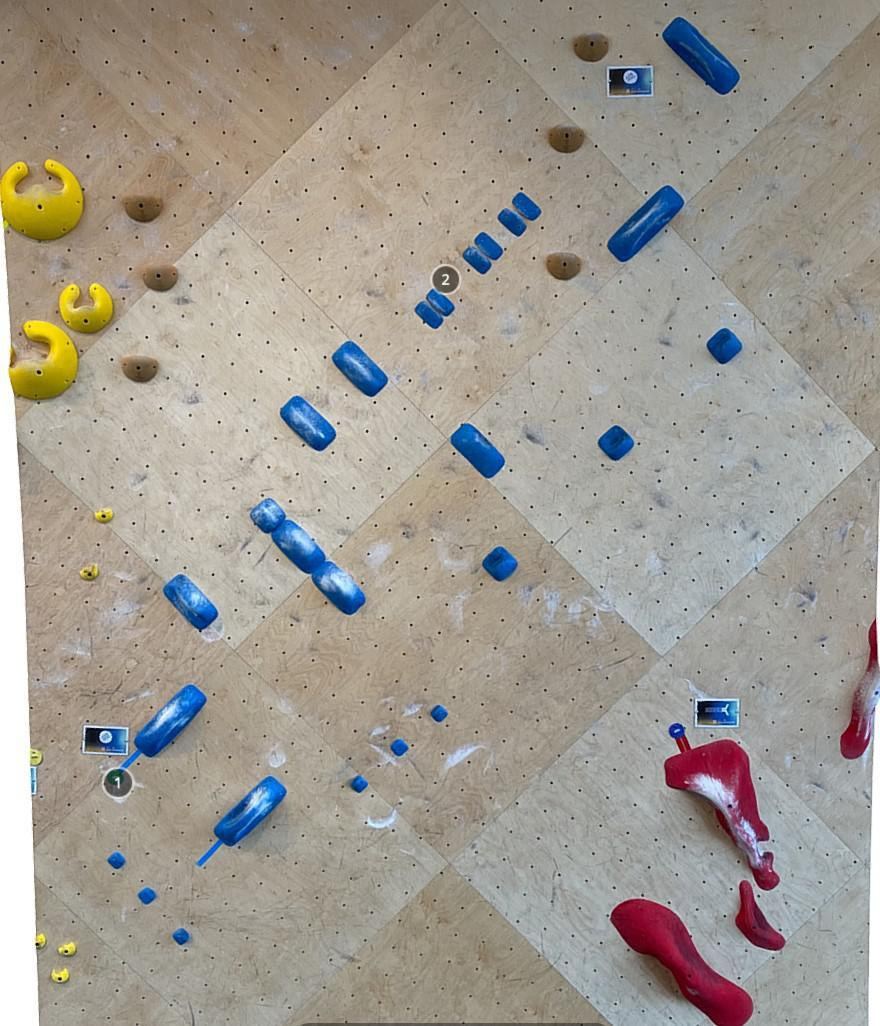hold: (610, 899, 753, 1026), (664, 739, 781, 890), (1, 159, 83, 240), (663, 17, 740, 95), (608, 185, 685, 262), (840, 618, 880, 759), (8, 320, 78, 399), (134, 685, 207, 758), (213, 776, 287, 847), (735, 880, 785, 950), (280, 395, 336, 451), (332, 341, 388, 397), (450, 423, 505, 479), (163, 574, 218, 629), (311, 561, 365, 615), (271, 520, 325, 574), (58, 282, 113, 333), (707, 328, 742, 364), (483, 546, 518, 581), (599, 425, 634, 460), (251, 498, 285, 534), (571, 31, 610, 62), (123, 193, 163, 222), (141, 263, 179, 291), (548, 125, 585, 153), (121, 355, 159, 382), (546, 252, 582, 280), (498, 208, 527, 236), (512, 192, 541, 220), (415, 301, 443, 329), (427, 288, 455, 316), (463, 246, 491, 274), (475, 232, 503, 260), (390, 738, 409, 757), (79, 562, 99, 580), (137, 887, 156, 905), (349, 775, 368, 793), (107, 852, 127, 869), (94, 507, 114, 523), (172, 928, 190, 945), (430, 705, 448, 722), (51, 967, 69, 983), (30, 745, 43, 766), (58, 941, 76, 956), (35, 932, 46, 949), (3, 220, 9, 231)
